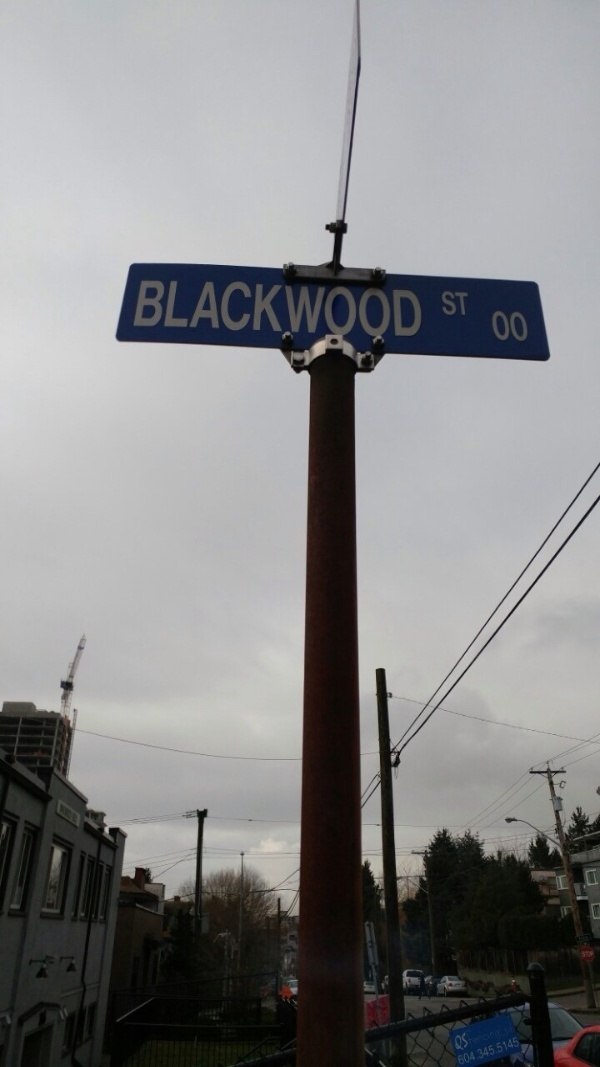text: (145, 278, 160, 339), (161, 278, 176, 339), (177, 278, 192, 339), (193, 278, 208, 339), (209, 278, 224, 339), (225, 278, 240, 339), (241, 278, 256, 339), (257, 278, 272, 339), (273, 278, 288, 339), (289, 278, 304, 339), (305, 278, 320, 339), (321, 278, 336, 339), (337, 278, 352, 339), (353, 278, 368, 339), (369, 278, 384, 339), (385, 278, 400, 339), (401, 278, 416, 339), (417, 278, 425, 339), (497, 311, 512, 343), (513, 311, 528, 343), (449, 290, 464, 318), (465, 1038, 480, 1066), (481, 1038, 496, 1066), (497, 1038, 512, 1066), (481, 1023, 496, 1047), (497, 1023, 512, 1047), (140, 278, 144, 339), (470, 1023, 480, 1047), (440, 290, 448, 318), (465, 290, 473, 318), (489, 311, 496, 343), (456, 1038, 464, 1066), (513, 1038, 521, 1066), (453, 1032, 464, 1052), (465, 1032, 471, 1052), (581, 951, 592, 958), (513, 1023, 516, 1047), (529, 311, 531, 343), (593, 951, 594, 958)
